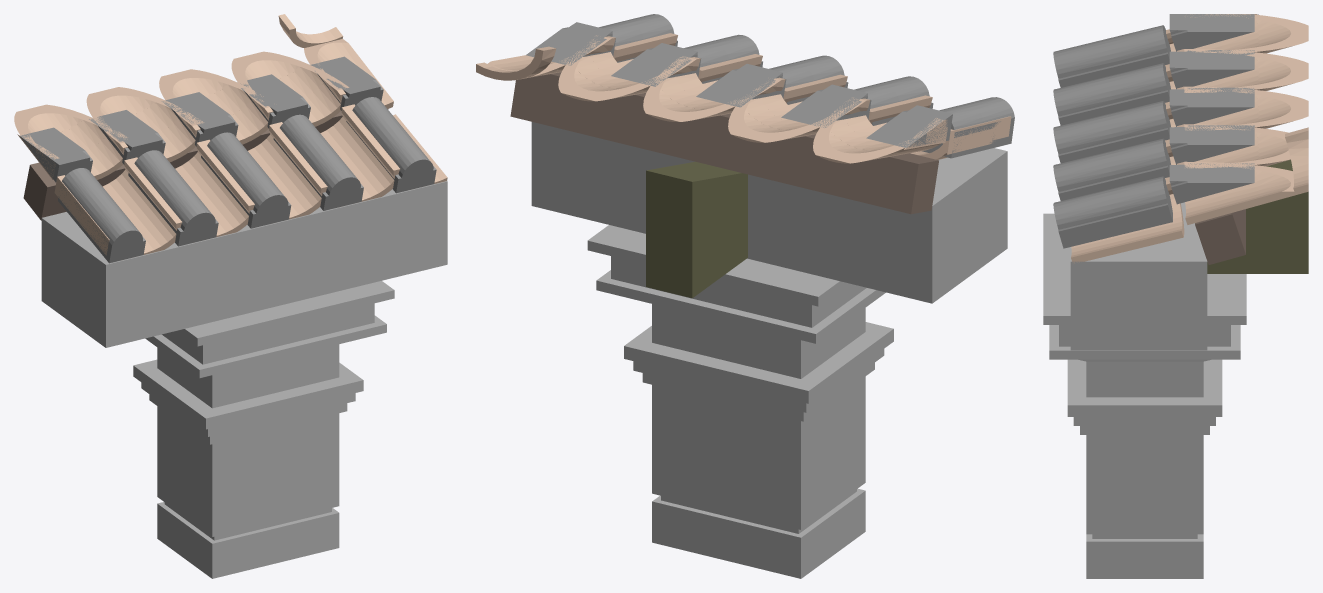
File: Granite Column Heads.gltf
The picture shows the model from 3 angles, left to right: view 1: azimuth 30°, elevation 25°; view 2: azimuth 150°, elevation 25°; view 3: azimuth 270°, elevation 25°; orthographic projection. The views are drawn at different scales.
Parts seen in each view (by area): view 1: SCL-ADS-CON-COL-0300 x 0400mm, 350x250mm, CWP-ADA-Roof-Tile (×27), Roof (×10), 100x120; view 2: SCL-ADS-CON-COL-0300 x 0400mm, 350x250mm, Roof (×10), 100x120, CWP-ADA-Roof-Tile (×13), SRM-ADS-Triangle_Section; view 3: SCL-ADS-CON-COL-0300 x 0400mm, Roof (×10), CWP-ADA-Roof-Tile (×18), 350x250mm, SRM-ADS-Triangle_Section, 100x120.
Part boxes in pixels (<box>): SCL-ADS-CON-COL-0300 x 0400mm: <box>133,281,394,578</box>; 350x250mm: <box>41,181,447,347</box>; CWP-ADA-Roof-Tile (×27): <box>14,14,447,254</box>; Roof (×10): <box>20,56,436,263</box>; 100x120: <box>23,109,388,220</box>; SCL-ADS-CON-COL-0300 x 0400mm: <box>587,225,893,578</box>; 350x250mm: <box>531,122,1007,303</box>; Roof (×10): <box>526,14,1014,158</box>; 100x120: <box>510,72,938,214</box>; CWP-ADA-Roof-Tile (×13): <box>476,35,947,160</box>; SRM-ADS-Triangle_Section: <box>646,161,747,298</box>; SCL-ADS-CON-COL-0300 x 0400mm: <box>1043,213,1246,578</box>; Roof (×10): <box>1053,14,1254,248</box>; CWP-ADA-Roof-Tile (×18): <box>1071,14,1308,263</box>; 350x250mm: <box>1070,202,1207,350</box>; SRM-ADS-Triangle_Section: <box>1207,159,1308,273</box>; 100x120: <box>1195,209,1245,264</box>.
Bounding box in the file's own units: 1.08 × 1.34 × 0.6789.
